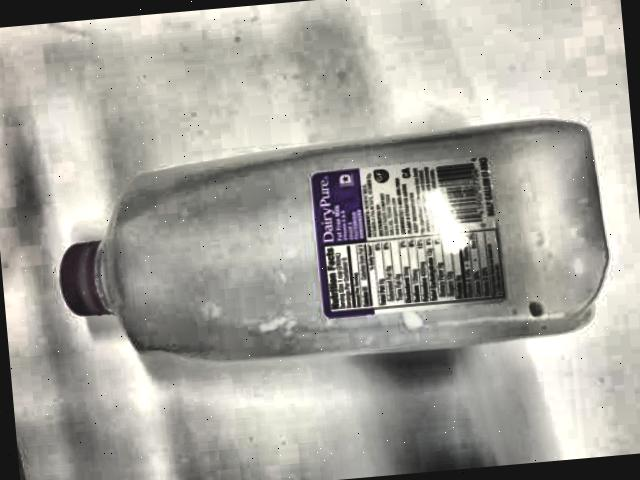Plastic: (15, 98, 640, 399)
